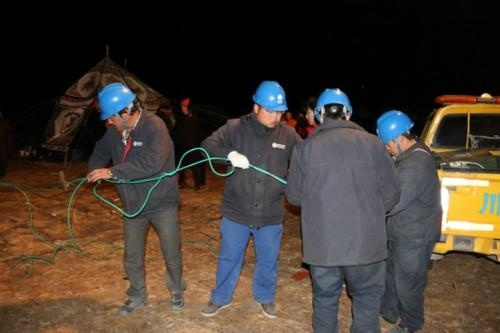blue: (94, 82, 140, 132), (374, 106, 416, 158), (251, 76, 288, 130), (314, 87, 354, 128)
